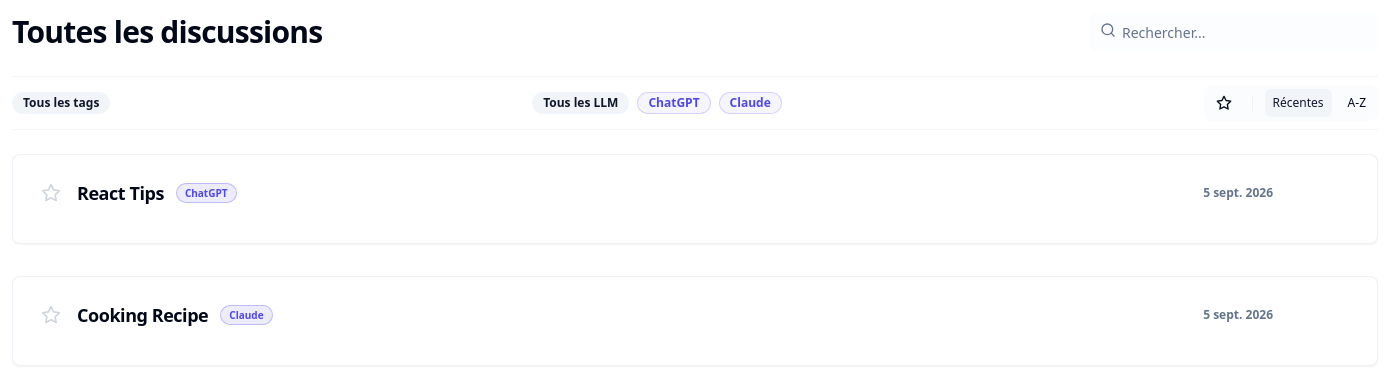
Test case: ConversationsList › filtre les conversations selon la recherche
Type "React" into the search field with placeholder "Rechercher..." at (1234, 32), box [1090, 12, 1378, 52]
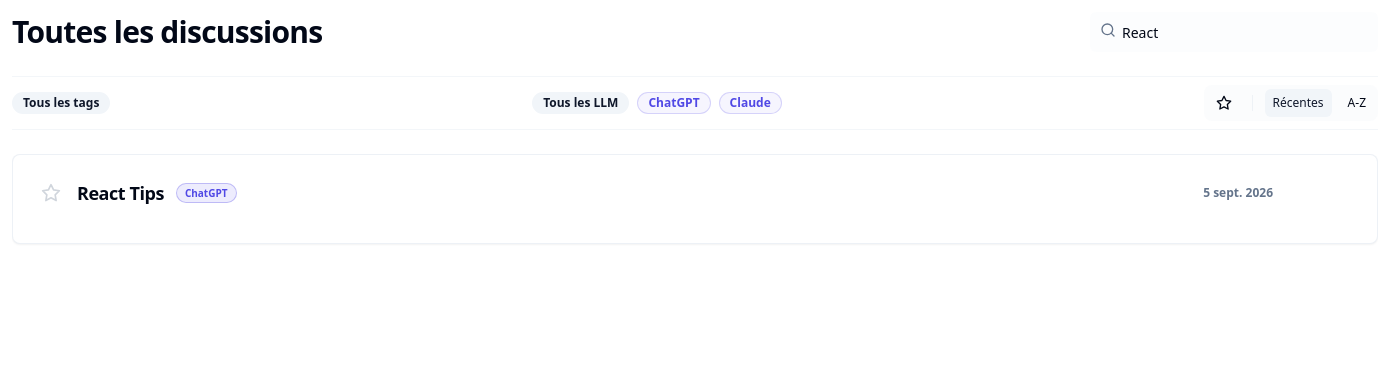
Expected: the text "React Tips" is shown, [77, 179, 164, 207]
Expected: the link "Cooking Recipe" is gone
